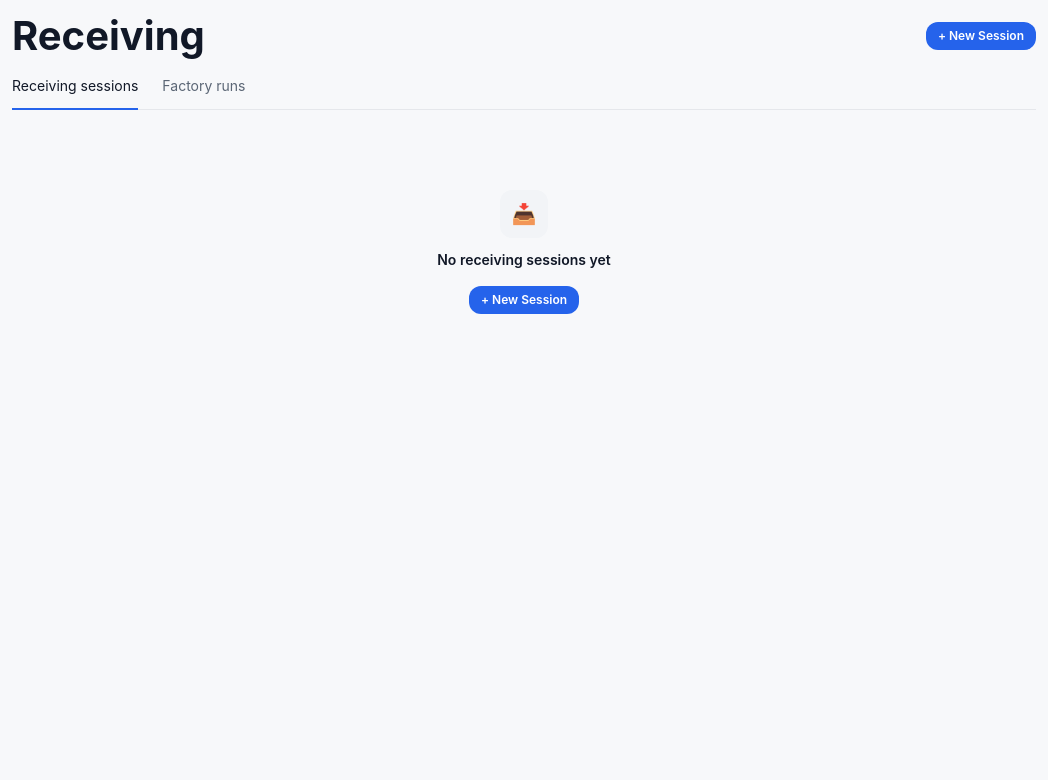
Test: Receiving › count only session › c3 — open: the notice and "Finish · add N to stock", no label printing
Click the 1st button "+ New Session" at (981, 36), box left=926, top=22, right=1036, bottom=50
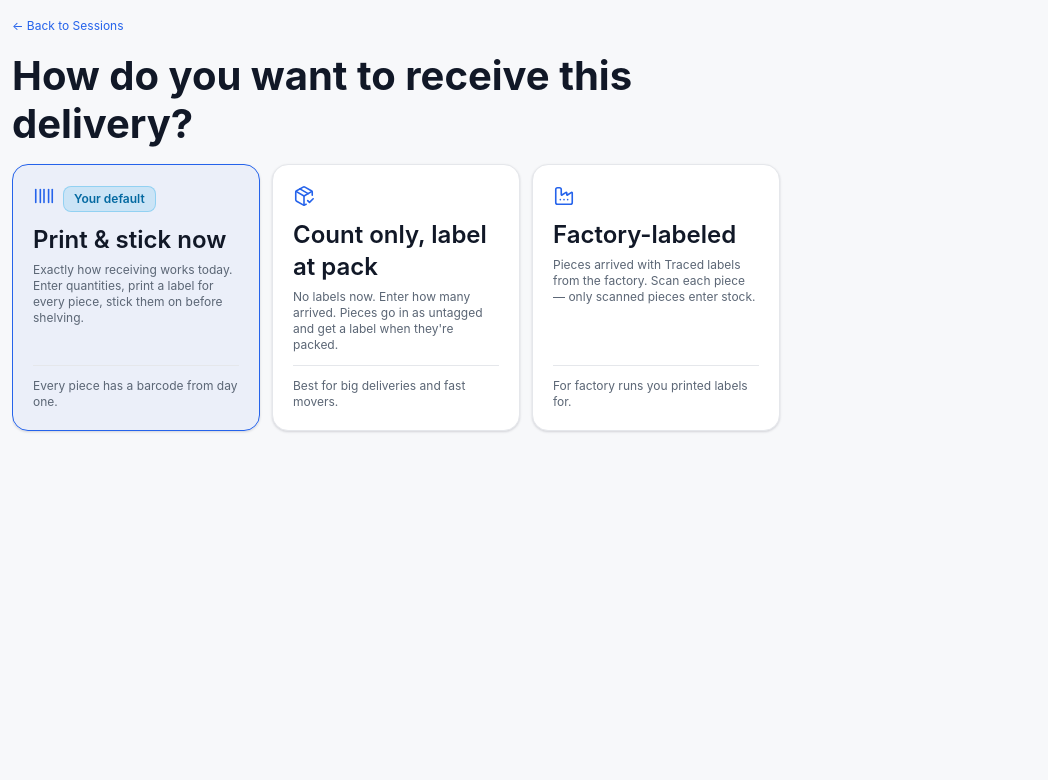
Click the button with test id "receiving-mode-count_only" at (396, 298), box left=272, top=164, right=520, bottom=431
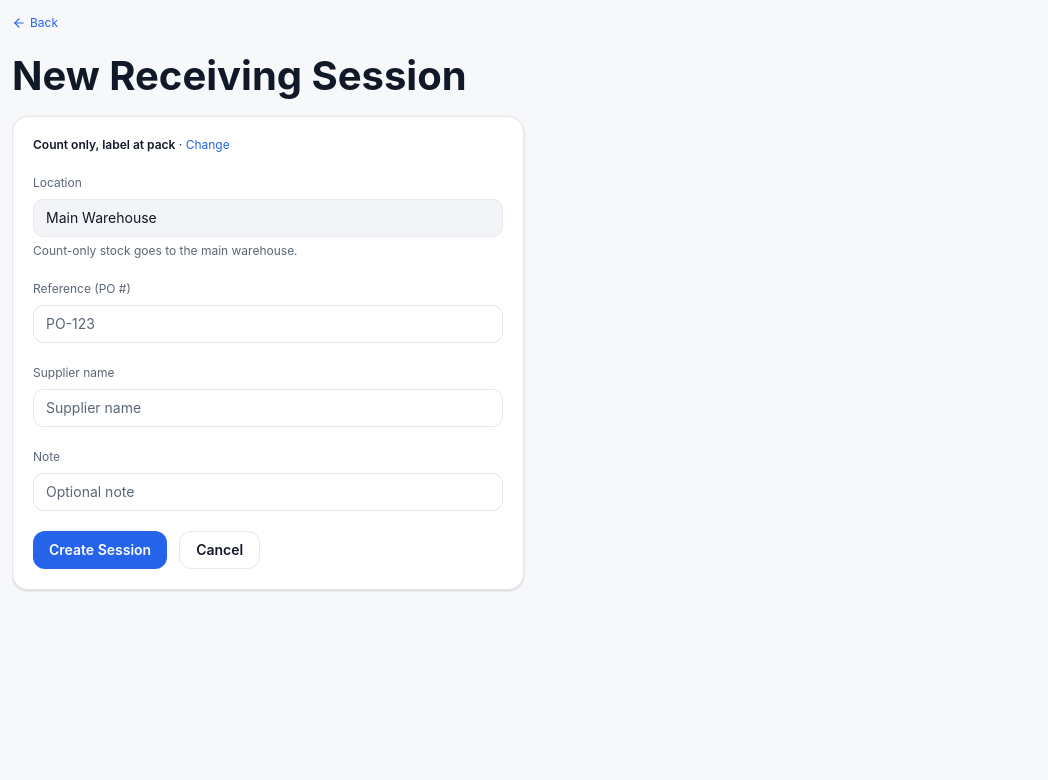
Click the button "Create Session" at (100, 550), box left=33, top=531, right=167, bottom=569
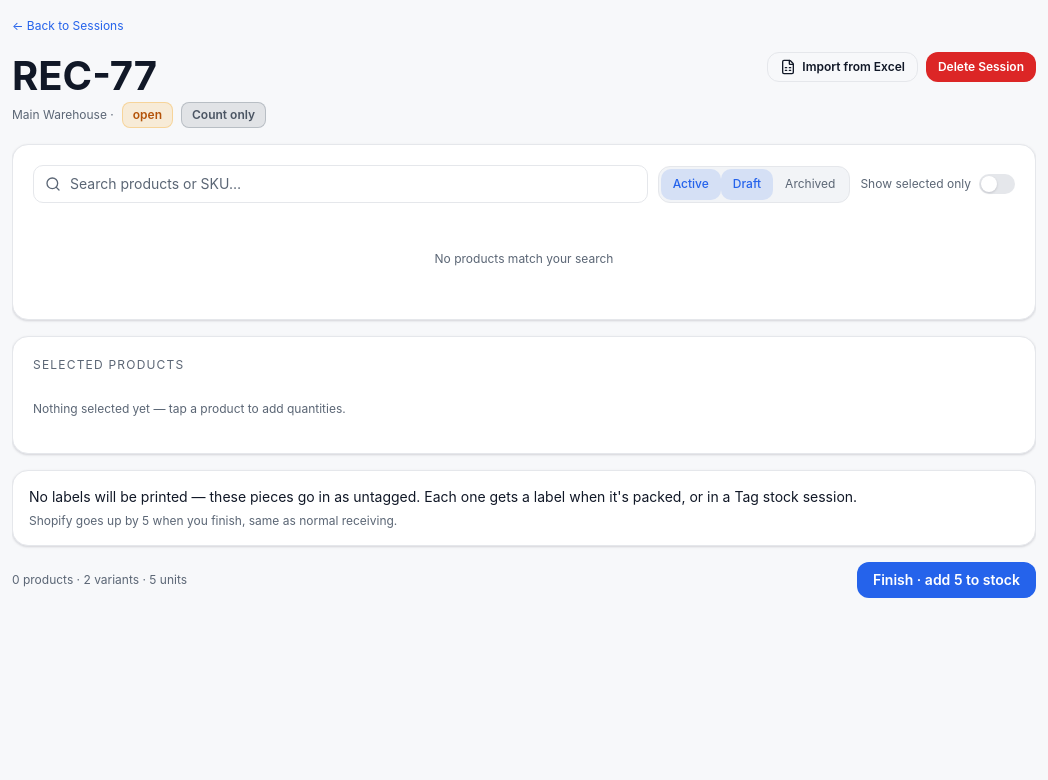
Check: the element with test id "count-only-notice" shows "No labels will be printed — these pieces go in as untagged.", box left=29, top=488, right=857, bottom=505
Check: the element with test id "count-only-notice" shows "Shopify goes up by", box left=29, top=513, right=397, bottom=528
Check: the button "Finish · add 5 to stock" is shown, box left=857, top=562, right=1036, bottom=598
